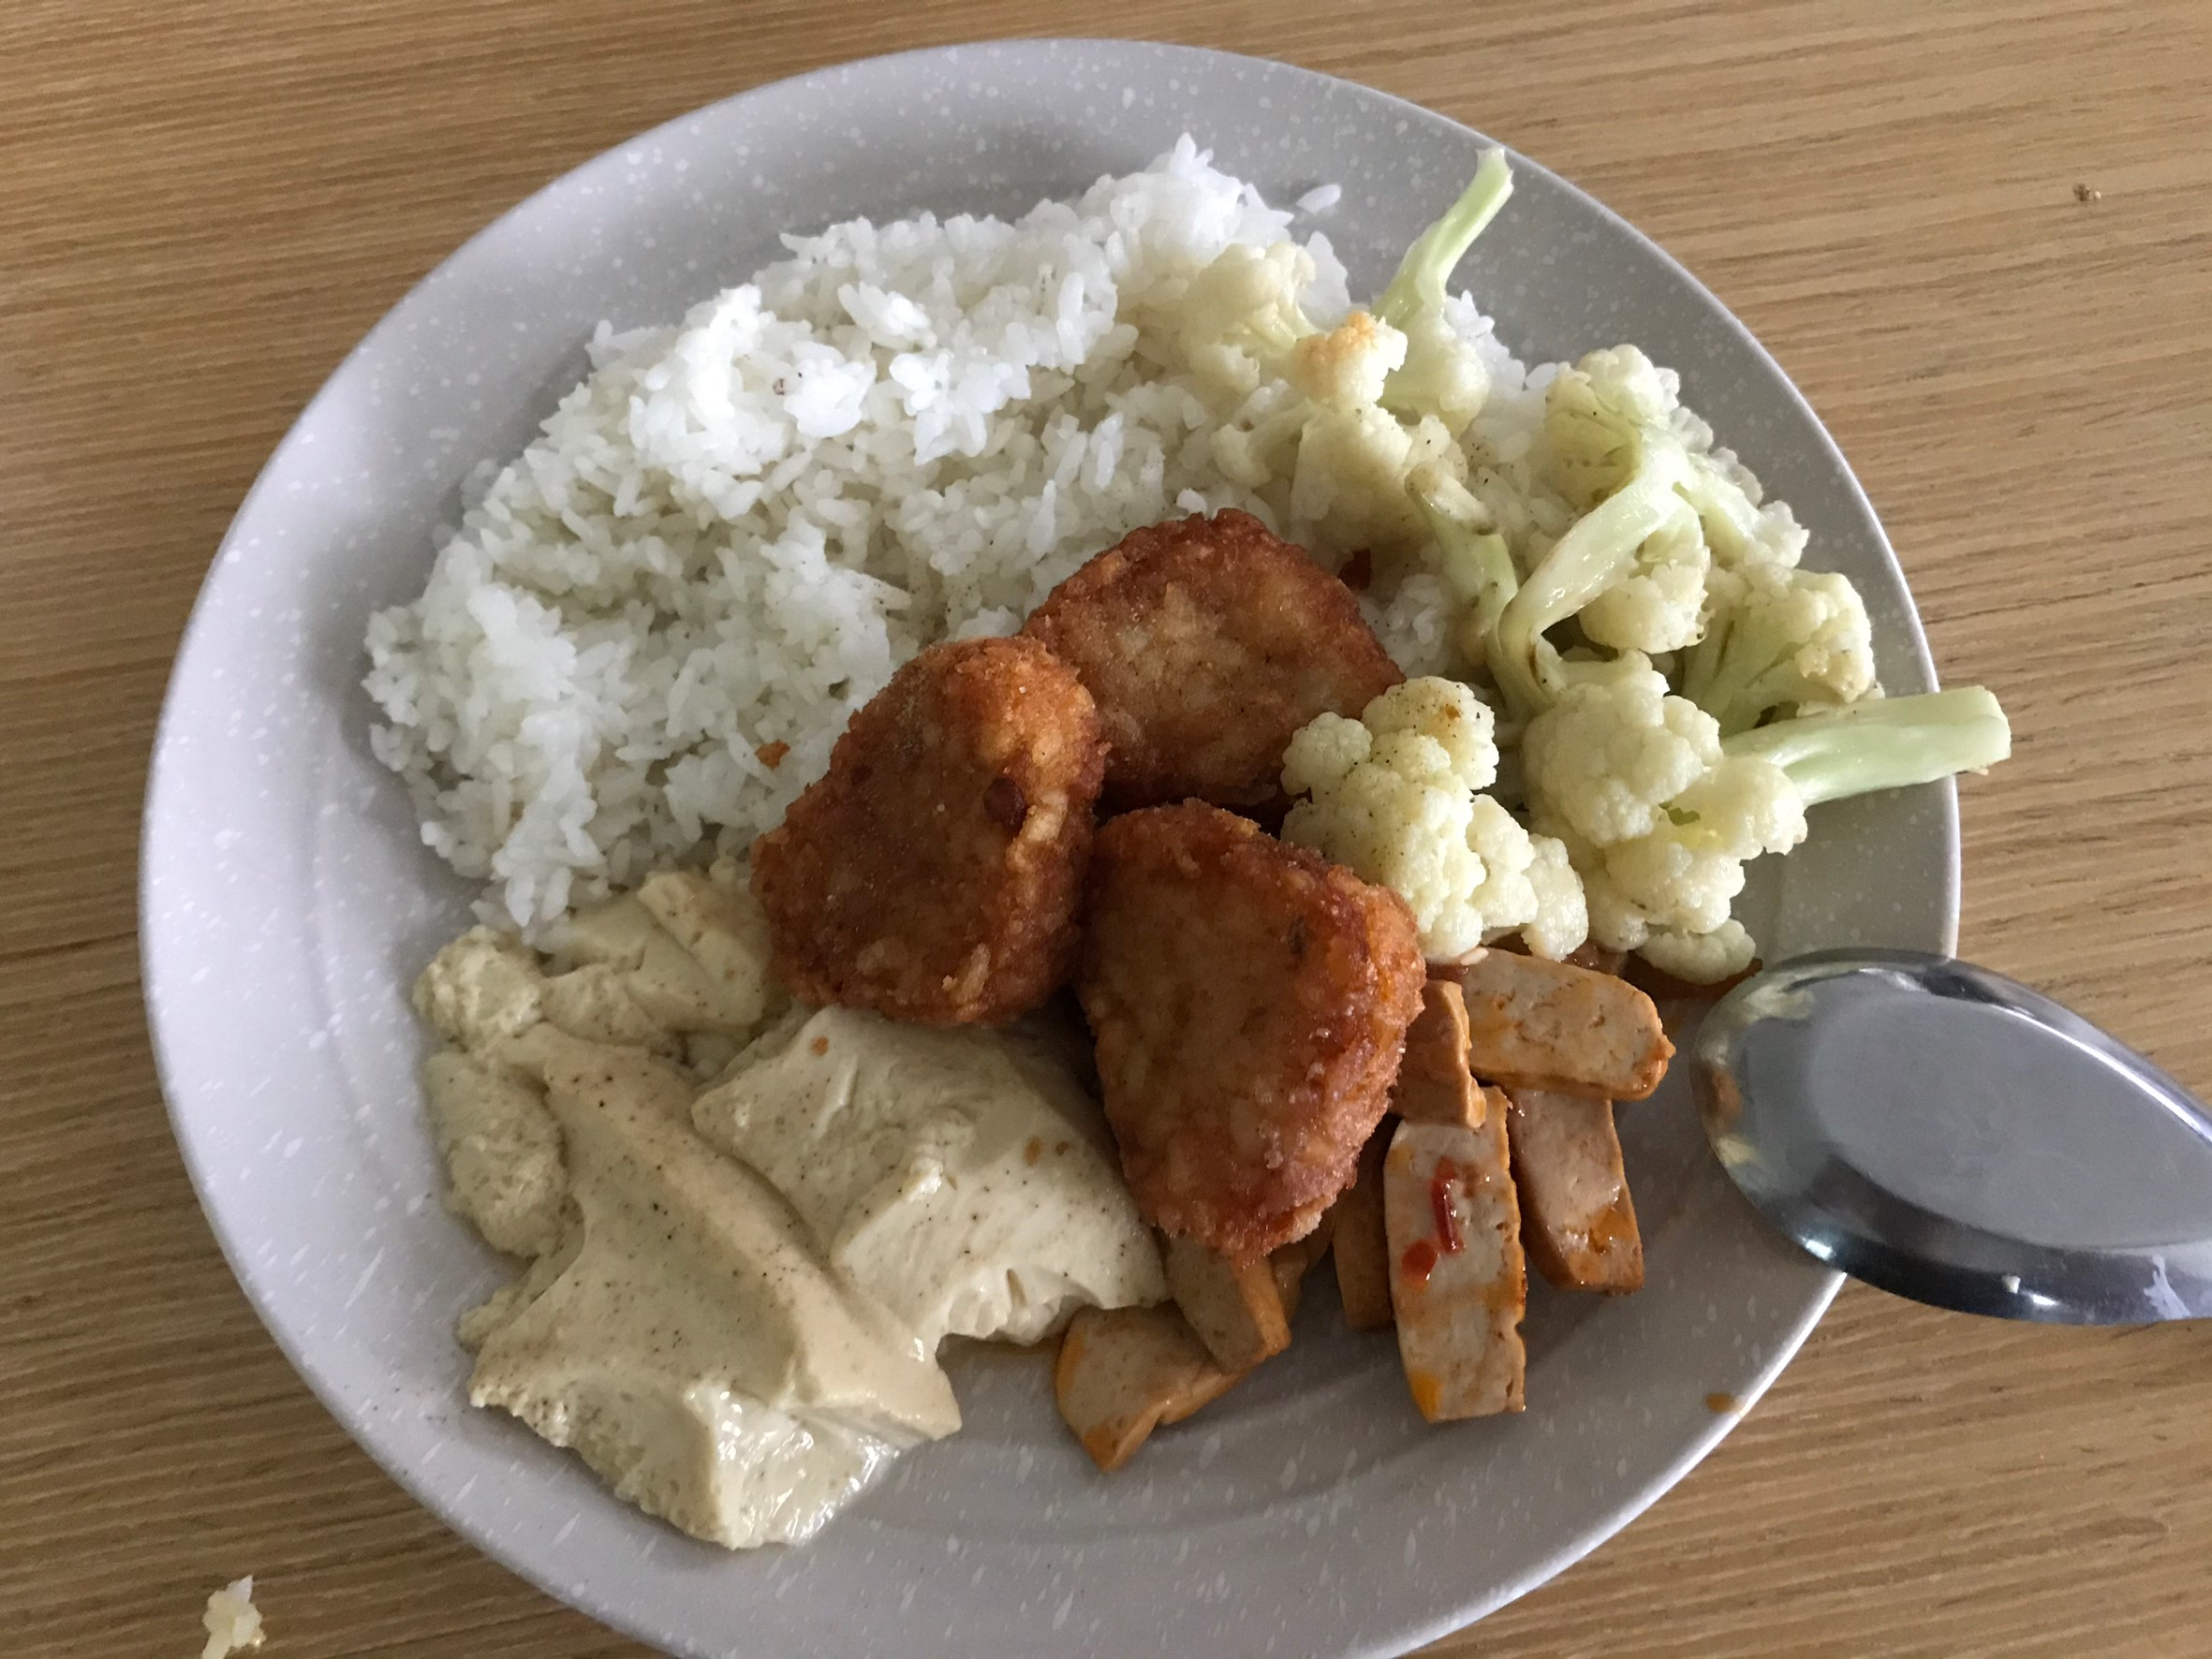rice: (364, 162, 1299, 793)
triangle_hash_brown: (760, 511, 1422, 1256)
